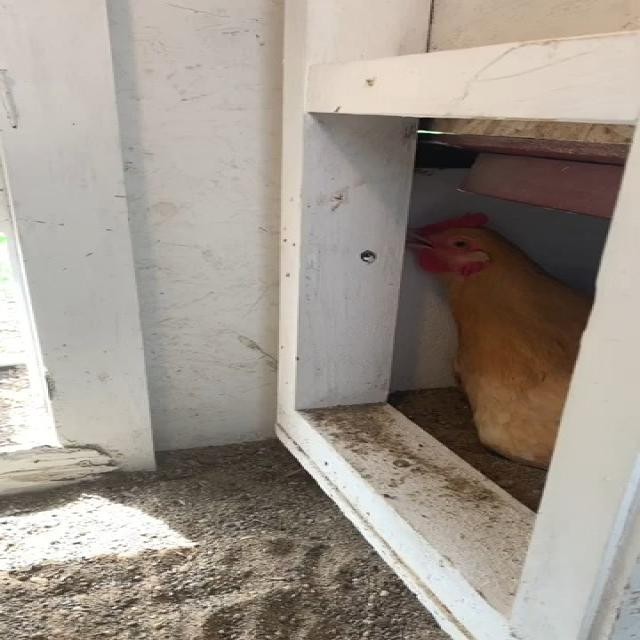Breathing: (402, 210, 594, 469)
